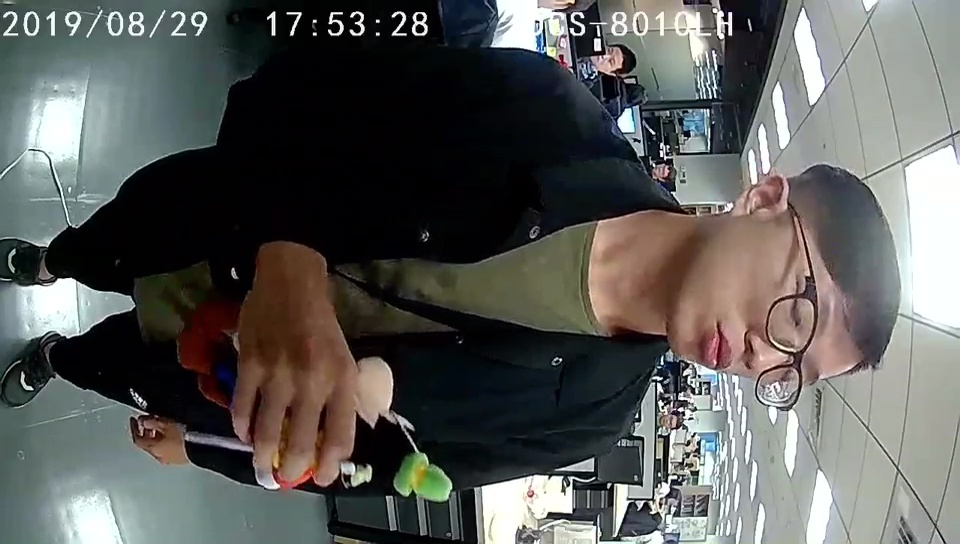goofy: (219, 357, 453, 504)
